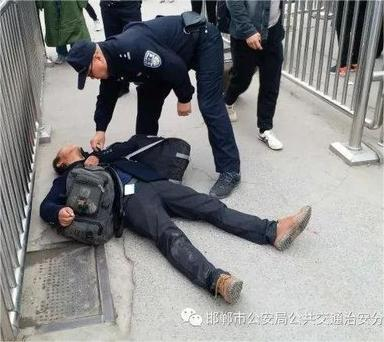bending: (66, 8, 250, 192)
down: (37, 130, 317, 308)
up: (222, 1, 302, 161)
